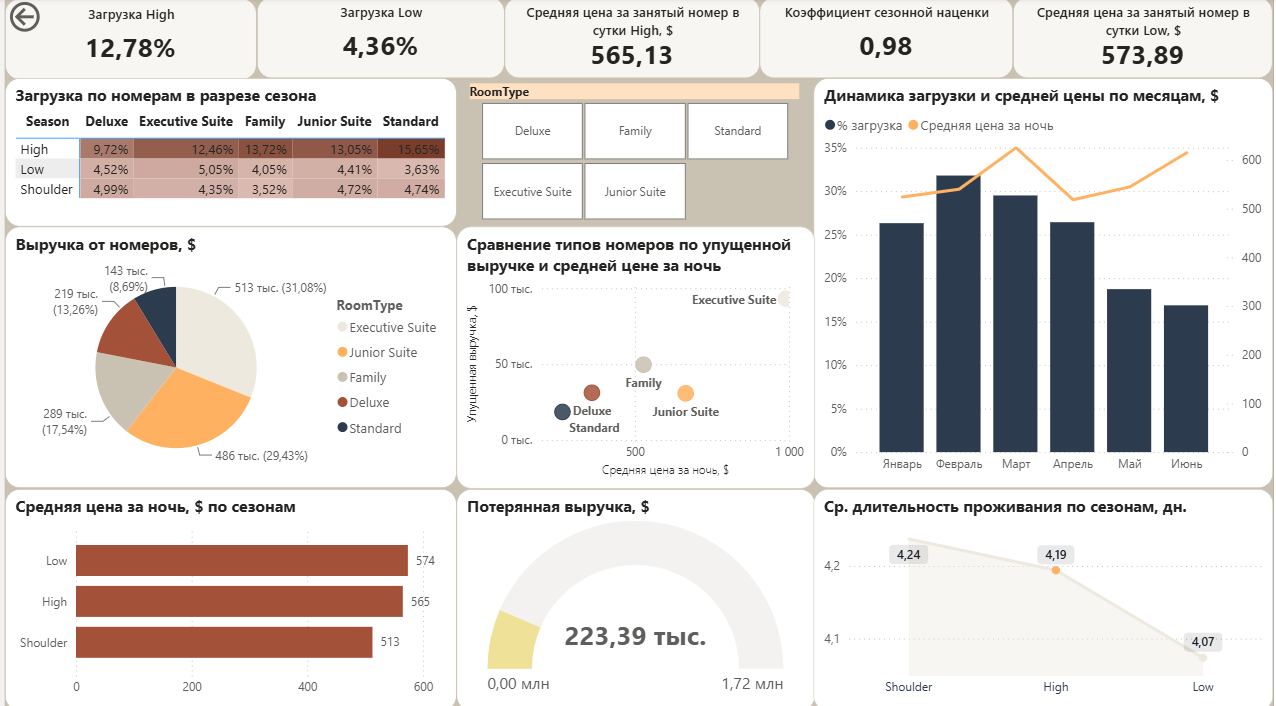

This screenshot's page, from the dashboard's own definition file:
{"tool":"powerbi","page":{"name":"Анализ сезонности и тарифной политики","canvas":[1280,720],"ordinal":3},"visuals":[{"type":"lineClusteredColumnComboChart","title":"Динамика загрузки и средней цены по месяцам, $","fields":{"Category":["Calendar.Месяц"],"Y":["Таблица мер.% загрузка"],"Y2":["Таблица мер.Средняя цена за ночь, $, $"]},"box":[816,82,464,414],"z":0},{"type":"slicer","fields":{"Values":["Rooms.RoomType"]},"box":[455.8,81.8,358.9,149.9],"z":1000},{"type":"card","title":"Загрузка High","fields":{"Values":["Таблица мер.Загрузка % High"]},"box":[0,2,254,82],"z":2000},{"type":"card","title":"Загрузка Low","fields":{"Values":["Таблица мер.Загрузка % Low  "]},"box":[254,0,250,82],"z":3000},{"type":"card","title":" Средняя цена за занятый номер в сутки High, $","fields":{"Values":["Таблица мер.ADR High"]},"box":[504,0,258,82],"z":4000},{"type":"card","title":" Средняя цена за занятый номер в сутки Low, $","fields":{"Values":["Таблица мер.ADR Low"]},"box":[1018,0,262,82],"z":5000},{"type":"card","title":"Коэффициент сезонной наценки","fields":{"Values":["Таблица мер.Коэф.сезонной наценки"]},"box":[762,0,256,82],"z":6000},{"type":"pivotTable","title":"Загрузка по номерам в разрезе сезона","fields":{"Columns":["Rooms.RoomType"],"Rows":["Bookings.Season"],"Values":["Таблица мер.% загрузка"]},"box":[0,82,456,150],"z":7000},{"type":"pieChart","title":"Выручка от номеров, $ ","fields":{"Category":["Rooms.RoomType"],"Y":["Таблица мер.Выручка от номеров (в периоде), $"]},"box":[0,232,456,264],"z":8000},{"type":"barChart","title":"Средняя цена за ночь,  $ по сезонам","fields":{"Category":["Bookings.Season"],"Y":["Таблица мер.Средняя цена за ночь"]},"box":[0,496,456,224],"z":9000},{"type":"gauge","title":"Потерянная выручка,  $","fields":{"Y":["Таблица мер.Потерянная выручка"]},"box":[456,496,362,224],"z":10000},{"type":"areaChart","title":"Ср. длительность проживания по сезонам, дн.","fields":{"Category":["Bookings.Season"],"Y":["Таблица мер.Средняя длительность проживания, дней"]},"box":[816,496,464,224],"z":11000},{"type":"actionButton","box":[0,0,100,40],"z":12000},{"type":"scatterChart","title":"Сравнение типов номеров по упущенной выручке и средней цене за ночь","fields":{"Series":["Rooms.RoomType"],"X":["Таблица мер.Средняя цена за ночь"],"Y":["Таблица мер.Потерянная выручка"]},"box":[455.8,231.7,361.9,265],"z":13000}]}

Visuals, with their boxes in screenshot pixels (x1, y1, x2, y2), scaled from the page's 1280x720 canvas onto the 1276x706 screenshot:
"Динамика загрузки и средней цены по месяцам, $" lineClusteredColumnComboChart: Rect(813, 80, 1275, 486)
slicer - Rooms.RoomType: Rect(454, 80, 812, 227)
"Загрузка High" card: Rect(0, 2, 253, 82)
"Загрузка Low" card: Rect(253, 0, 502, 80)
" Средняя цена за занятый номер в сутки High, $" card: Rect(502, 0, 760, 80)
" Средняя цена за занятый номер в сутки Low, $" card: Rect(1015, 0, 1275, 80)
"Коэффициент сезонной наценки" card: Rect(760, 0, 1015, 80)
"Загрузка по номерам в разрезе сезона" pivotTable: Rect(0, 80, 455, 227)
"Выручка от номеров, $ " pieChart: Rect(0, 227, 455, 486)
"Средняя цена за ночь,  $ по сезонам" barChart: Rect(0, 486, 455, 705)
"Потерянная выручка,  $" gauge: Rect(455, 486, 815, 705)
"Ср. длительность проживания по сезонам, дн." areaChart: Rect(813, 486, 1275, 705)
actionButton: Rect(0, 0, 100, 39)
"Сравнение типов номеров по упущенной выручке и средней цене за ночь" scatterChart: Rect(454, 227, 815, 487)
